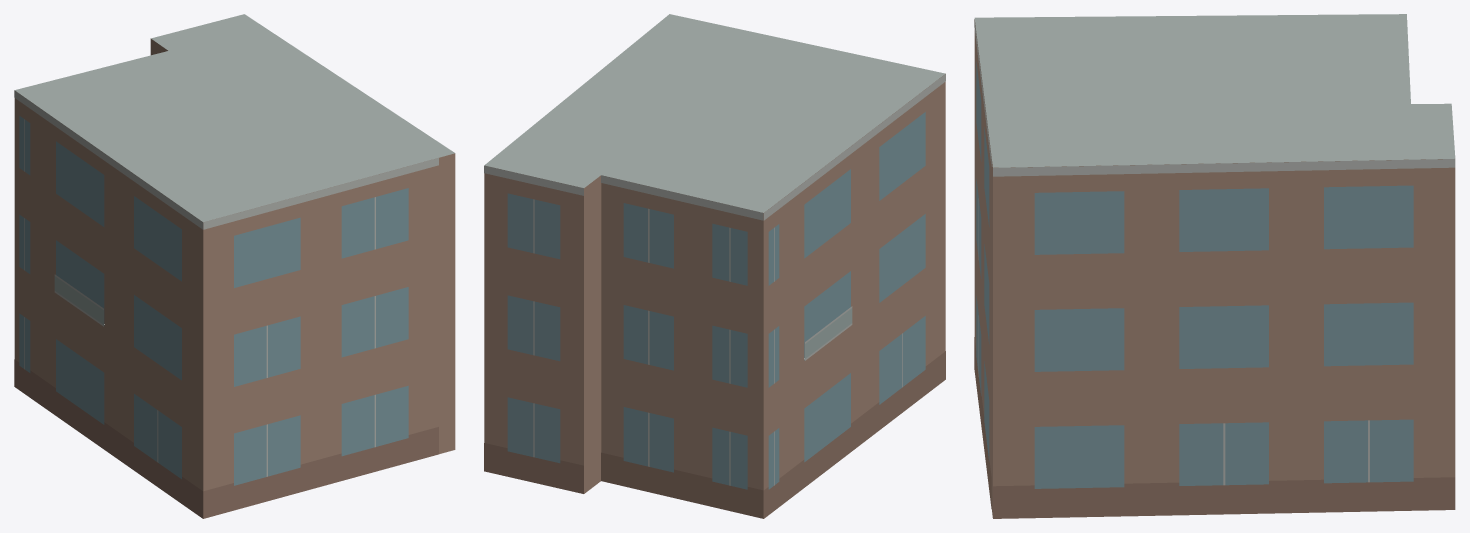
The model's file is survey-upis-32473512.glb.
The picture shows the model from 3 angles, left to right: view 1: azimuth 30°, elevation 25°; view 2: azimuth 150°, elevation 25°; view 3: azimuth 270°, elevation 25°; orthographic projection. The views are drawn at different scales.
Parts seen in each view (by area): view 1: survey-upis-32473512.tmp; view 2: survey-upis-32473512.tmp; view 3: survey-upis-32473512.tmp.
Part boxes in pixels (x1=…): survey-upis-32473512.tmp: x1=14, y1=14, x2=455, y2=518; survey-upis-32473512.tmp: x1=484, y1=14, x2=945, y2=518; survey-upis-32473512.tmp: x1=974, y1=14, x2=1455, y2=518.
Bounding box in the file's own units: 9.03 × 9.6 × 11.93.
